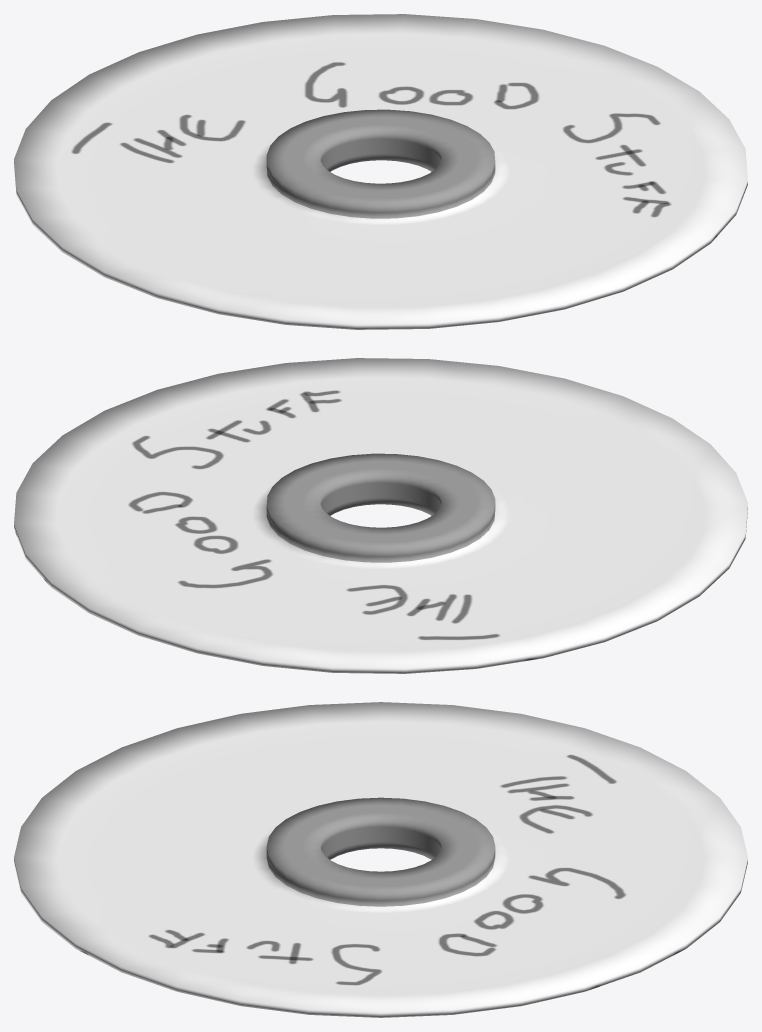
3 renders of one model, top to bottom at view 1: azimuth 30°, elevation 25°; view 2: azimuth 150°, elevation 25°; view 3: azimuth 270°, elevation 25°, orthographic.
Visible parts, largest first — view 1: Plane.001; view 2: Plane.001; view 3: Plane.001.
Part boxes in pixels (x1,y1,x2,y2): Plane.001: (14,14,747,329); Plane.001: (14,358,747,673); Plane.001: (14,702,747,1017).
Size of the model in its own units: 1.71 by 0.0721 by 1.71.
Materials: 2 (1 with a texture image).
